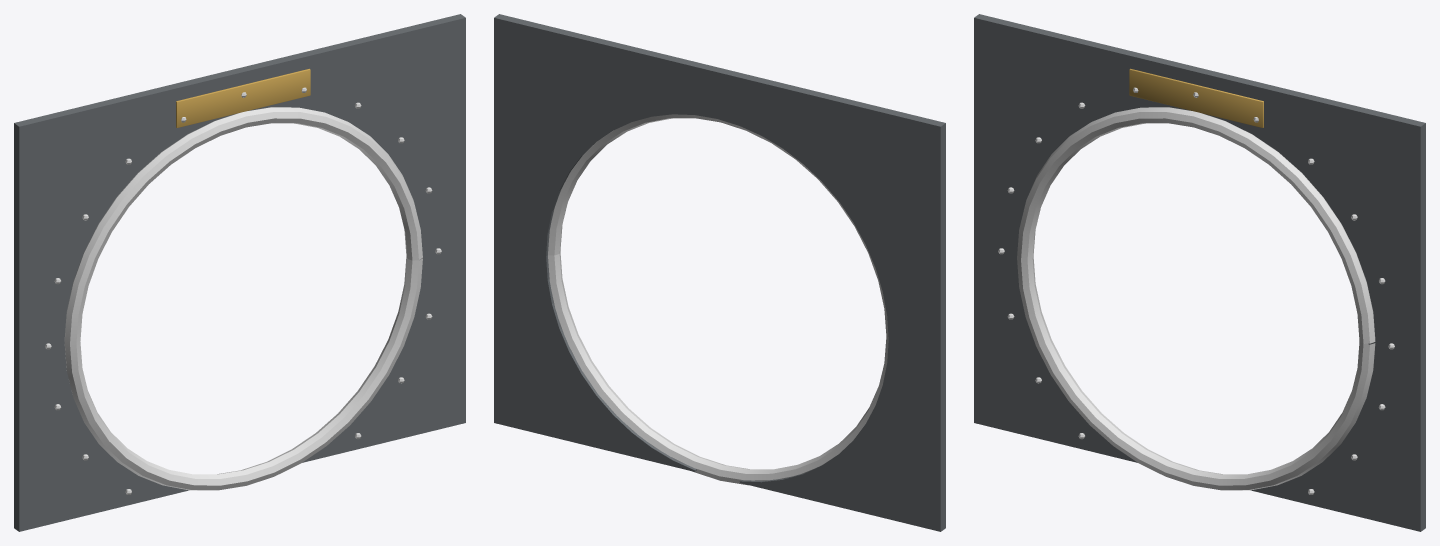
File: tideline_vault_frame.glb
3 renders of one model, left to right at view 1: azimuth 30°, elevation 25°; view 2: azimuth 150°, elevation 25°; view 3: azimuth 330°, elevation 25°, orthographic.
Visible parts, largest first — view 1: tideline_vault_frame; view 2: tideline_vault_frame; view 3: tideline_vault_frame.
Part boxes in pixels (x1,y1,x2,y2): tideline_vault_frame: (14, 14, 465, 531); tideline_vault_frame: (494, 14, 945, 531); tideline_vault_frame: (974, 14, 1425, 531).
Size of the model in its own units: 3 by 2.65 by 0.12.
